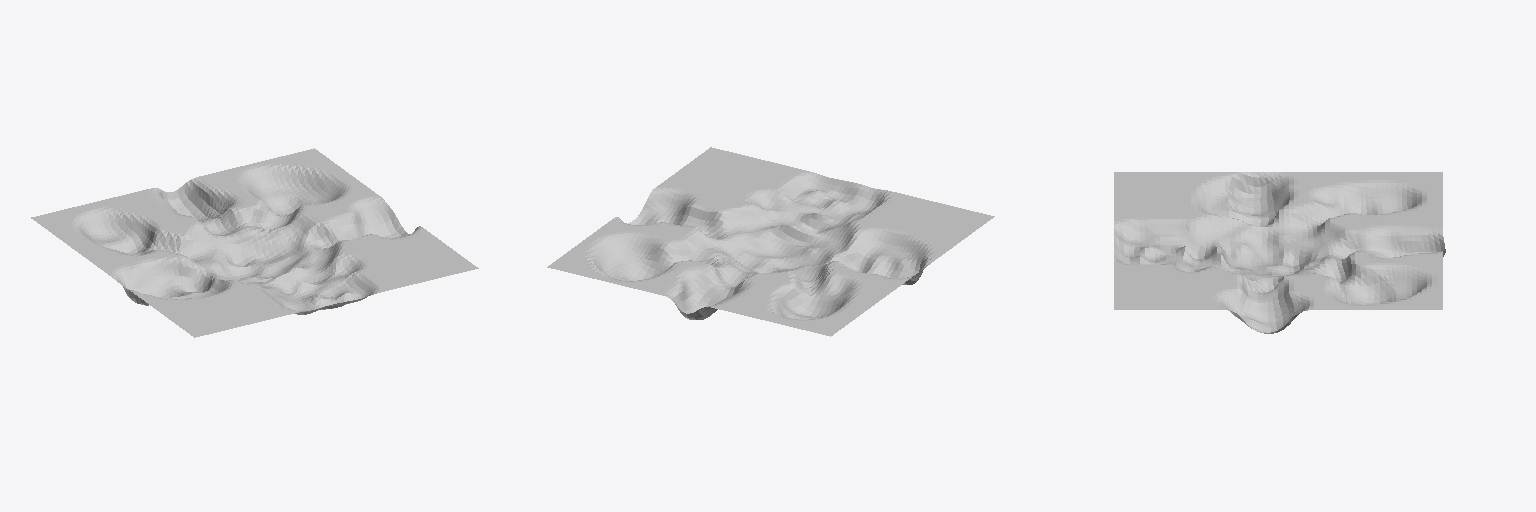
Rendered from MapTest2.obj.
3 renders of one model, left to right at view 1: azimuth 30°, elevation 25°; view 2: azimuth 150°, elevation 25°; view 3: azimuth 270°, elevation 25°, orthographic.
Visible parts, largest first — view 1: Plane; view 2: Plane; view 3: Plane.
Boxes of the visible parts, box(x1,y1,x2,y2) form: Plane: box(31, 148, 478, 337); Plane: box(547, 147, 994, 336); Plane: box(1114, 172, 1445, 333).
Size of the model in its own units: 406 by 37.57 by 404.